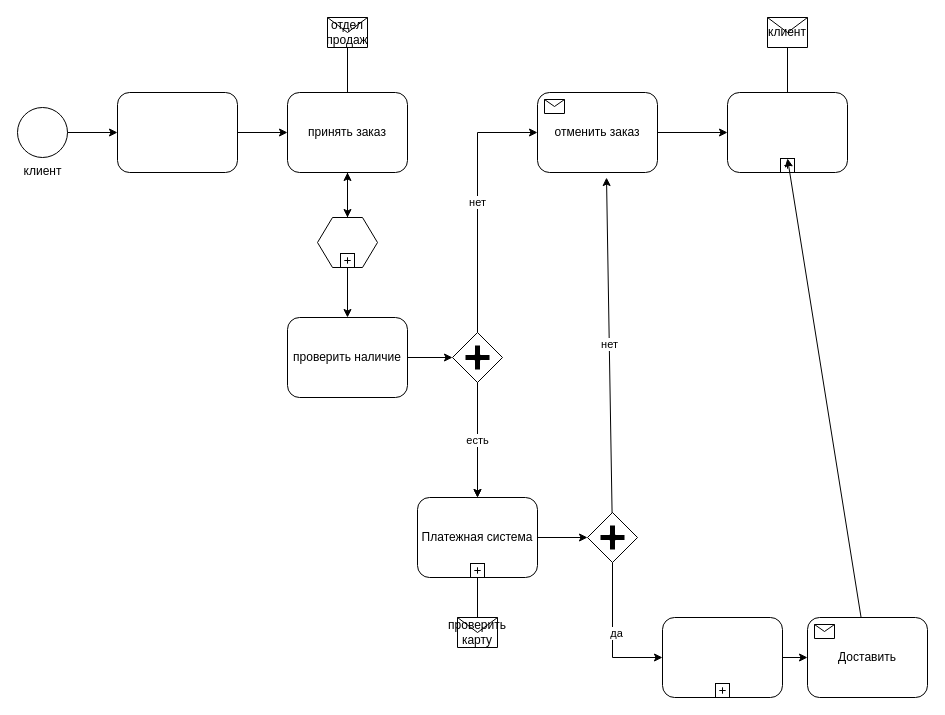
The diagram is 945 pixels wide and 715 high, and some of its shapes have lost their labels. Here are the shapes that lost their labels. From the top down, the box of each, then its label:
(116, 92, 238, 172): Начало
(726, 92, 848, 172): конец
(316, 216, 378, 268): склад
(586, 512, 638, 562): ОК?
(662, 616, 782, 698): Обработать карту
